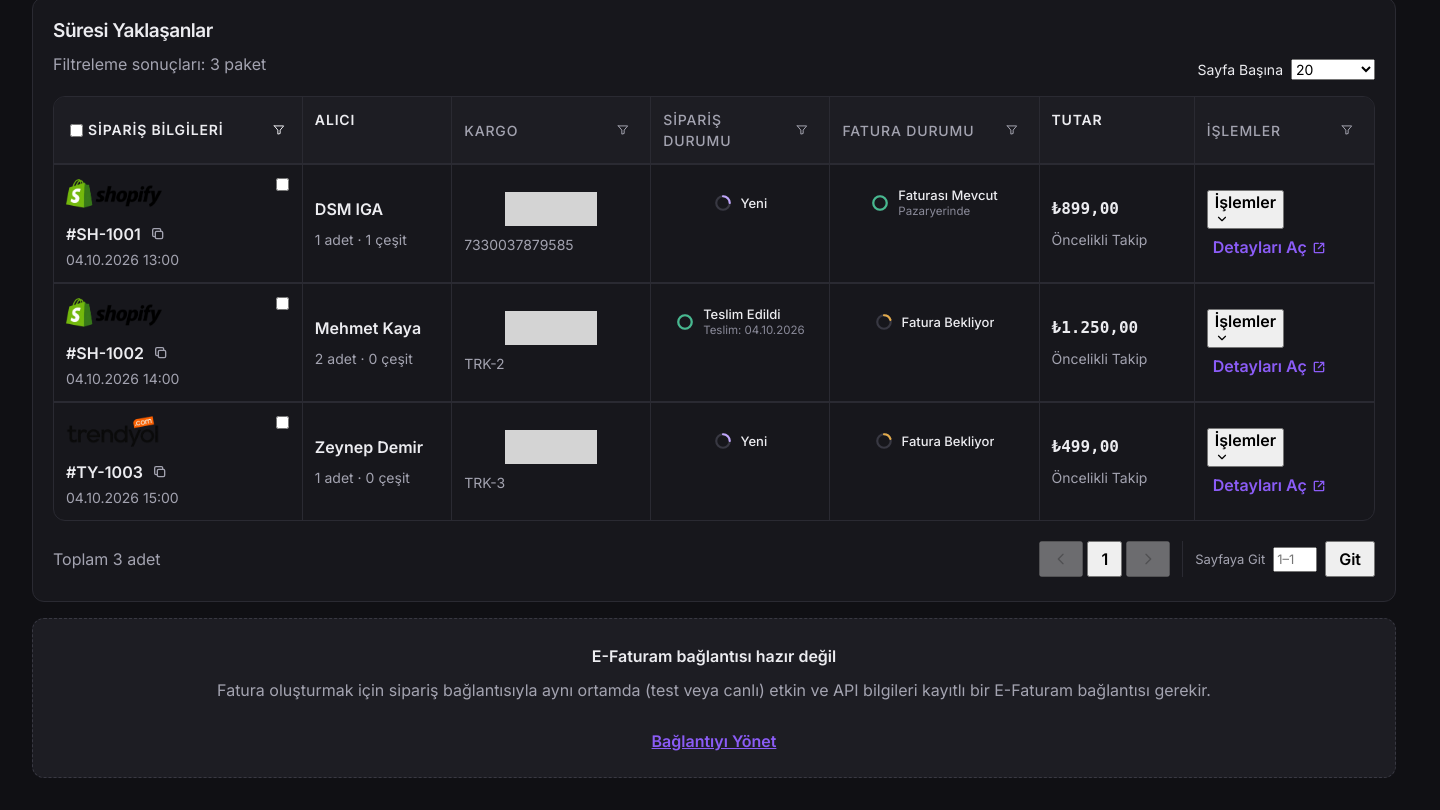
Test: InvoicesPage Shopify bulk invoice status › shows the marketplace refresh control inside the invoice details, not on the row
(page scrolled)
Click the button with class "invoice-reference-details-trigger" in the row of "#TY-1003".
click(1270, 486)  # box [1207, 475, 1333, 496]
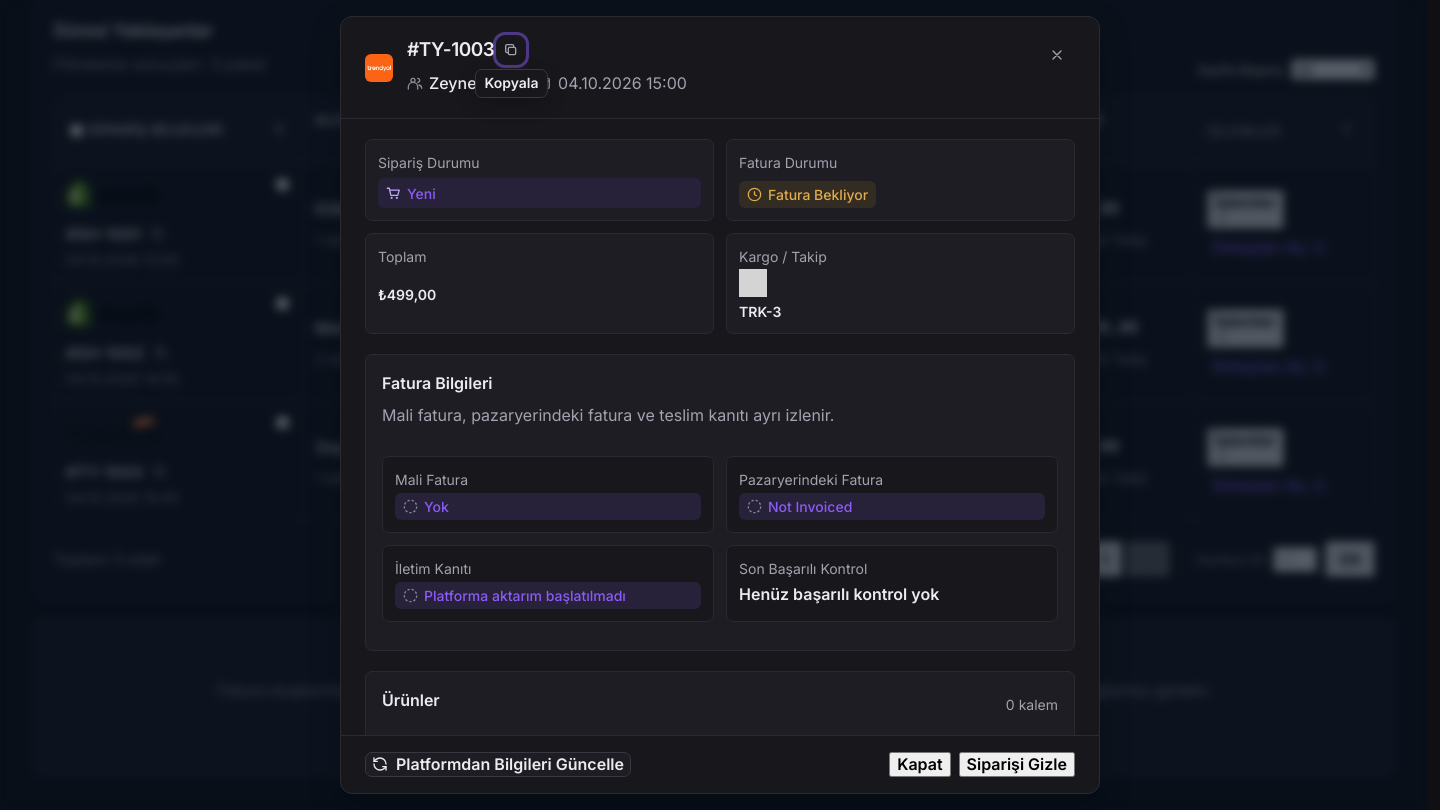
Expected: the button with class "invoice-detail-platform-refresh" reads "Platformdan Bilgileri Güncelle", [365, 752, 631, 777]
Expected: the footer with class "invoice-detail-platform-refresh" is shown, [341, 735, 1099, 793]
